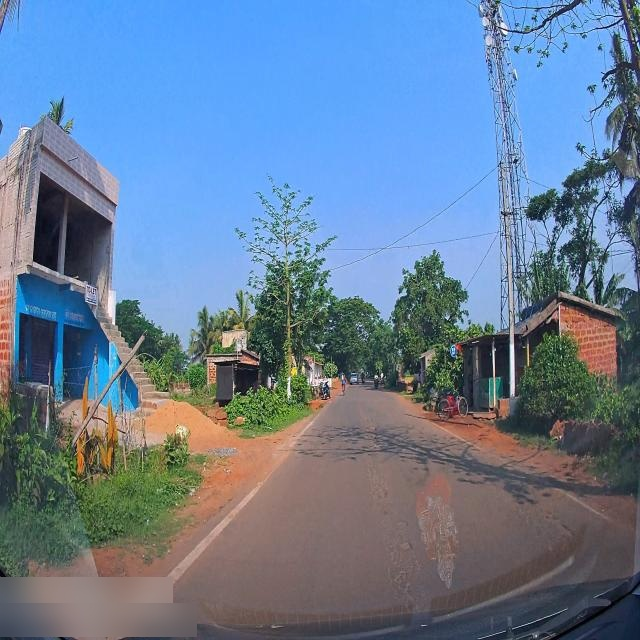pothole: (394, 563, 420, 584), (367, 464, 384, 484), (374, 485, 388, 504), (394, 518, 410, 534), (398, 540, 414, 554), (368, 425, 376, 432), (369, 418, 373, 423)
